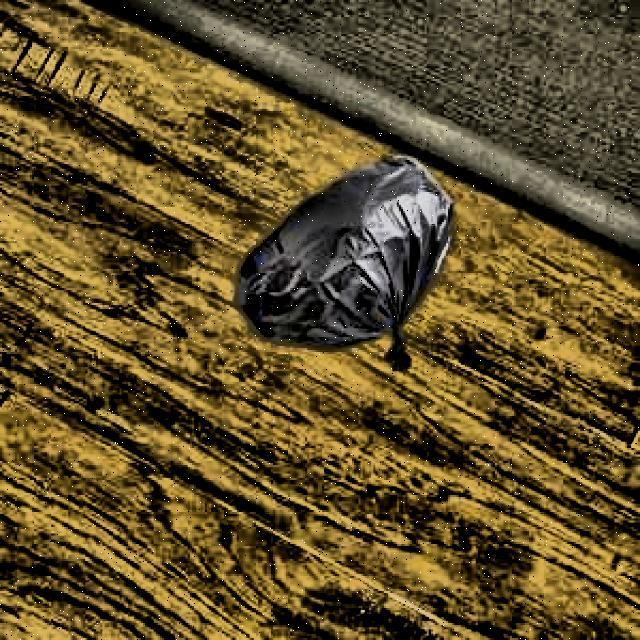Trashbag: (227, 150, 465, 376)
